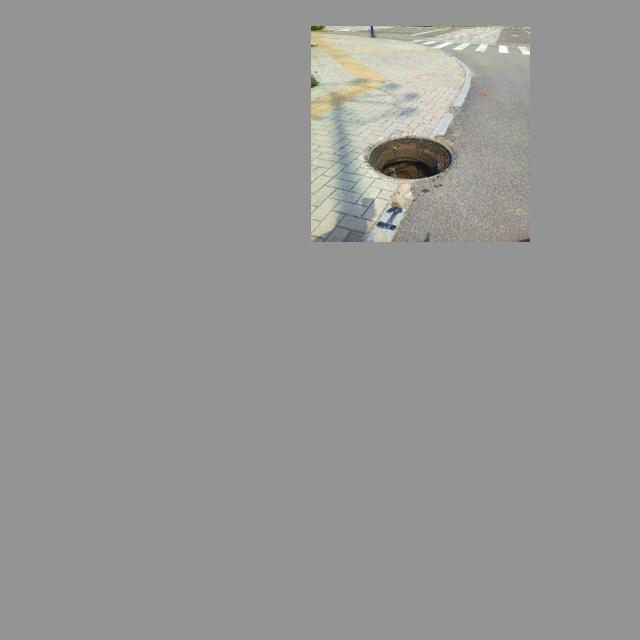lose: (366, 135, 454, 179)
